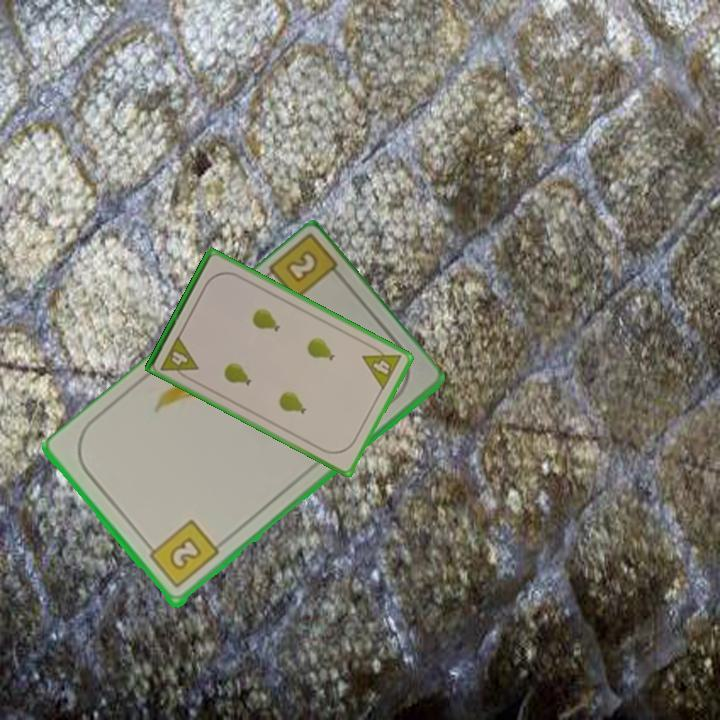2b: (142, 517, 222, 592), (264, 234, 349, 304)
4p: (359, 340, 405, 393), (157, 332, 201, 383)
